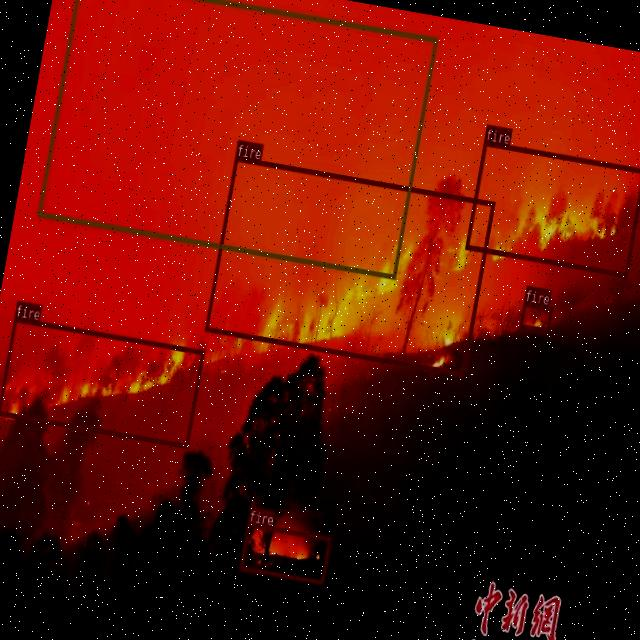fire: (204, 155, 494, 376), (0, 316, 203, 447), (464, 140, 640, 276), (238, 521, 330, 584), (518, 301, 552, 332)
smoke: (37, 0, 437, 277)
